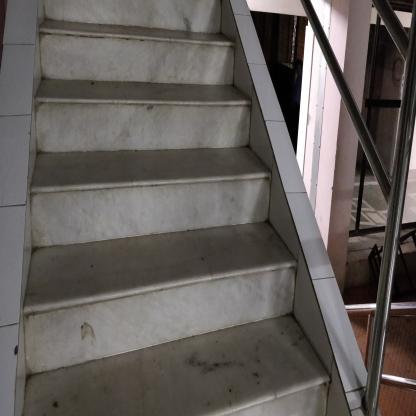stairs: (45, 8, 219, 396)
